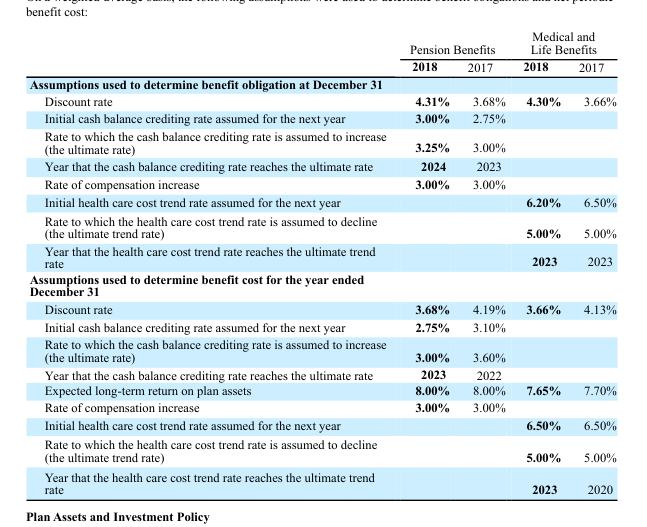table: (28, 29, 615, 496)
table column: (28, 29, 397, 496), (397, 29, 457, 496), (457, 29, 513, 496), (513, 29, 569, 496), (569, 29, 615, 496)
table column header: (28, 29, 615, 75)
table projected row header: (28, 270, 615, 299), (28, 75, 615, 92)
table row: (28, 434, 615, 466), (28, 126, 615, 157), (28, 210, 615, 241), (28, 335, 615, 365), (28, 466, 615, 496), (28, 241, 615, 270), (28, 270, 615, 299), (28, 29, 615, 57), (28, 57, 615, 75), (28, 174, 615, 192), (28, 192, 615, 210), (28, 299, 615, 317), (28, 317, 615, 335), (28, 398, 615, 416), (28, 416, 615, 434), (28, 75, 615, 92), (28, 92, 615, 109), (28, 109, 615, 126), (28, 157, 615, 174), (28, 381, 615, 398), (28, 365, 615, 381)
table spanning cell: (397, 29, 513, 57), (513, 29, 615, 57)
